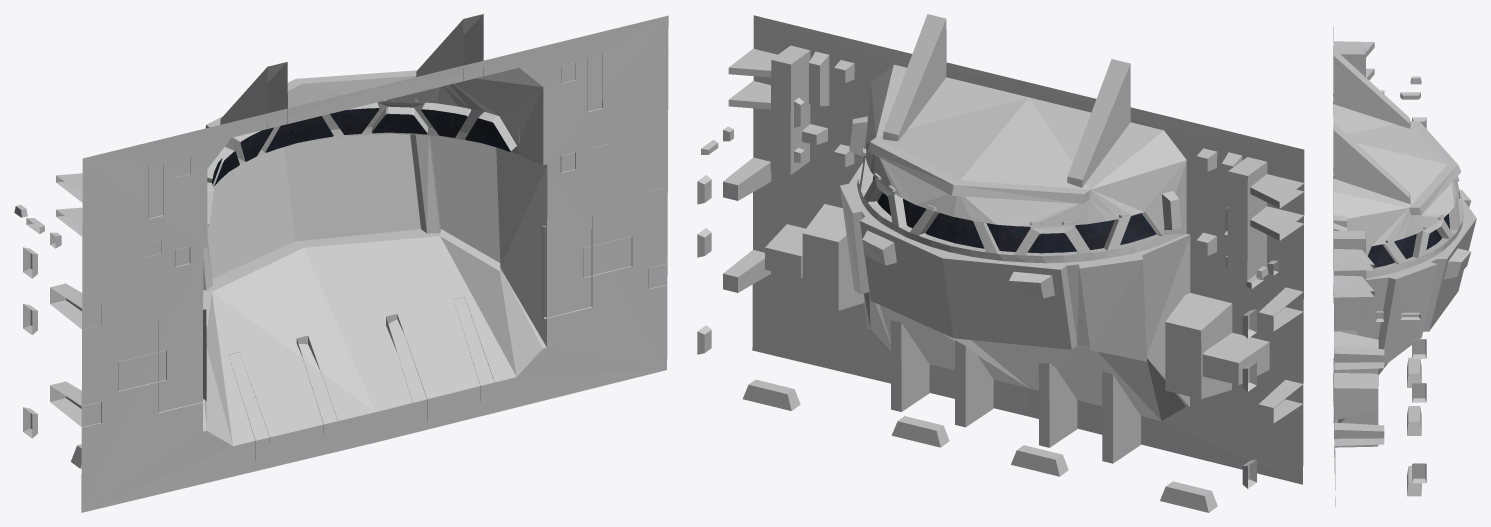
Rendered from star_destroyer_bridge_l0.fbx.
3 views of the same model, side by side, from view 1: azimuth 30°, elevation 25°; view 2: azimuth 150°, elevation 25°; view 3: azimuth 270°, elevation 25° (orthographic). The views are drawn at different scales.
Visible parts, largest first — view 1: mesh_node; view 2: mesh_node; view 3: mesh_node.
Boxes of the visible parts, left/top/right/bottom form: mesh_node: left=14, top=14, right=668, bottom=512; mesh_node: left=697, top=14, right=1304, bottom=512; mesh_node: left=1333, top=27, right=1476, bottom=506.
Size of the model in its own units: 46.29 by 29.79 by 12.39.
